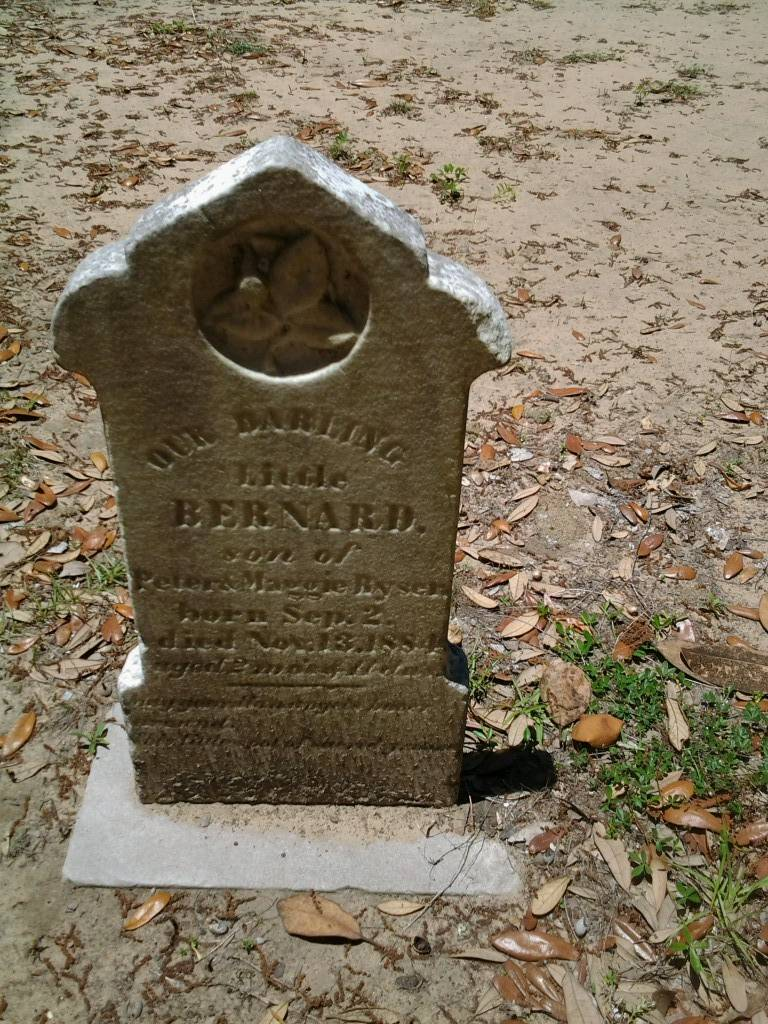upright: (50, 141, 517, 807)
